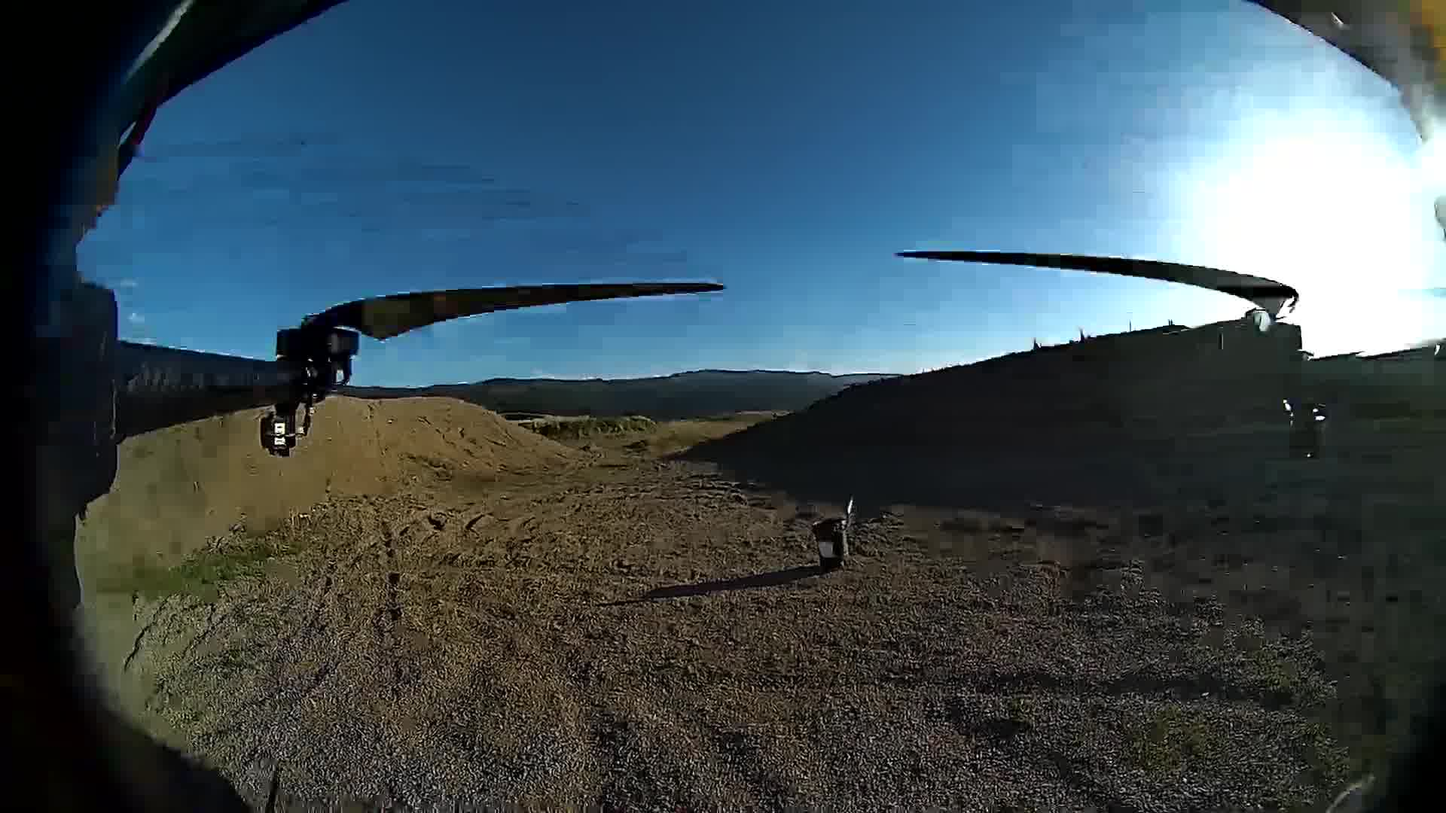Target: (816, 542, 834, 557)
